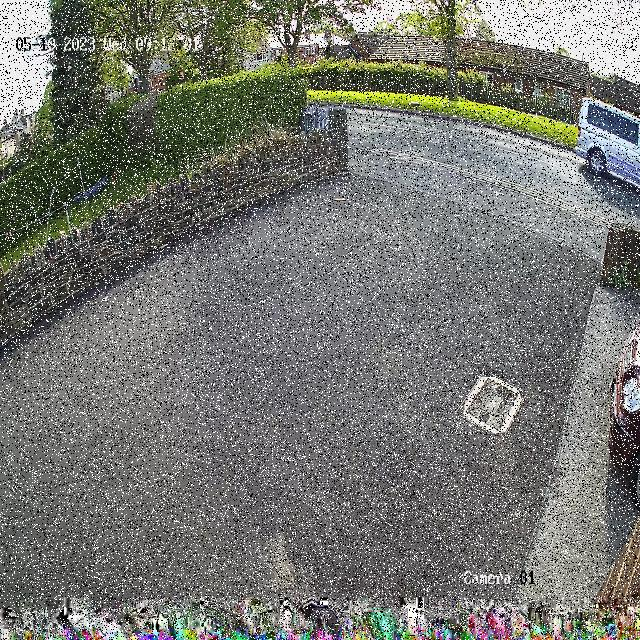vehicle: (576, 93, 640, 192)
